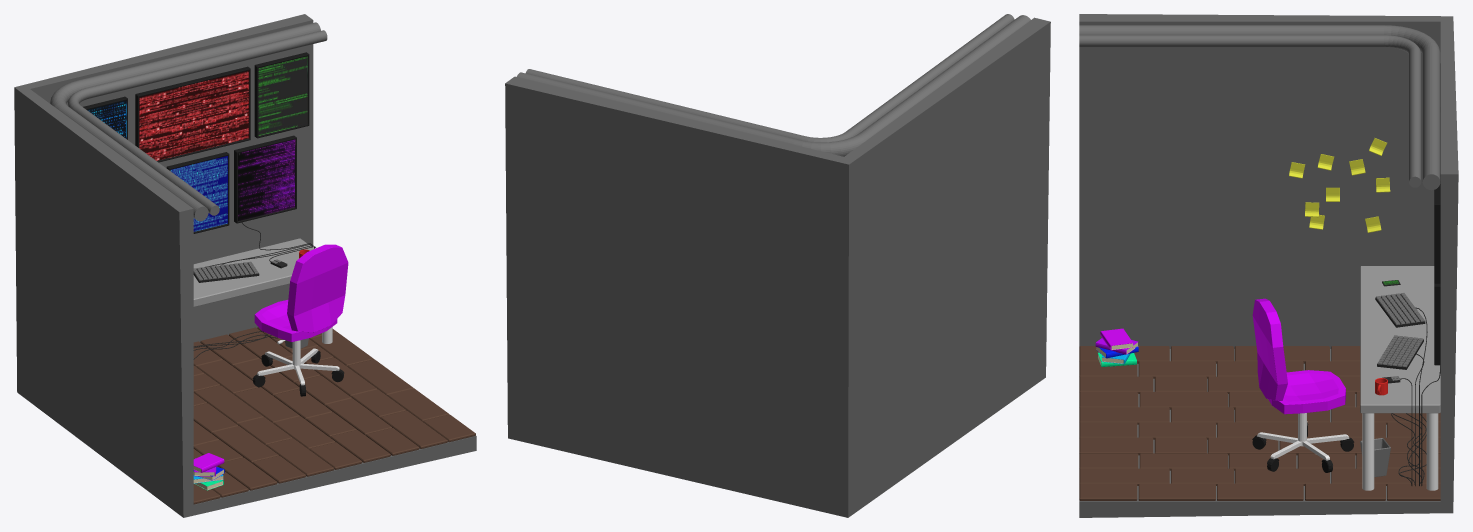
File: darkRoom.gltf
3 views of the same model, side by side, from view 1: azimuth 30°, elevation 25°; view 2: azimuth 150°, elevation 25°; view 3: azimuth 270°, elevation 25° (orthographic). The views are drawn at different scales.
Parts seen in each view (by area): view 1: Plane; view 2: Plane; view 3: Plane.
Part boxes in pixels (x1,y1,x2,y2): Plane: (14,14,476,517); Plane: (505,14,1050,517); Plane: (1079,14,1458,517).
Size of the model in its own units: 210 by 210 by 210.
Materials: 42 (7 with a texture image).
